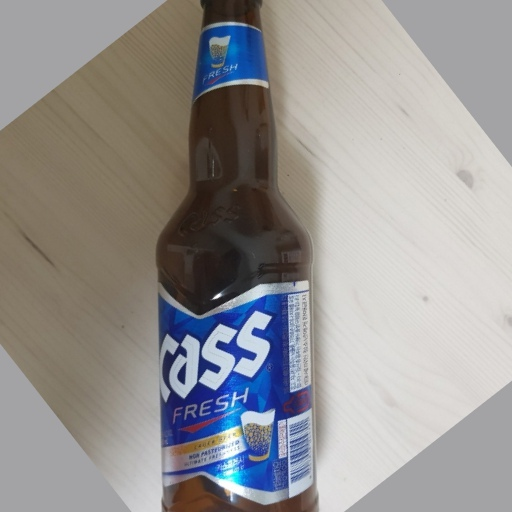Glass_1: (156, 2, 317, 512)
